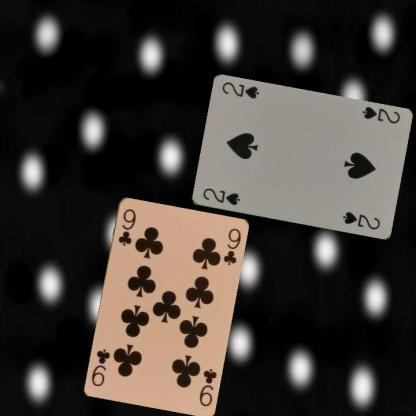2s: (200, 185, 241, 207), (359, 104, 401, 125)
9c: (196, 365, 218, 407), (115, 206, 137, 247)
